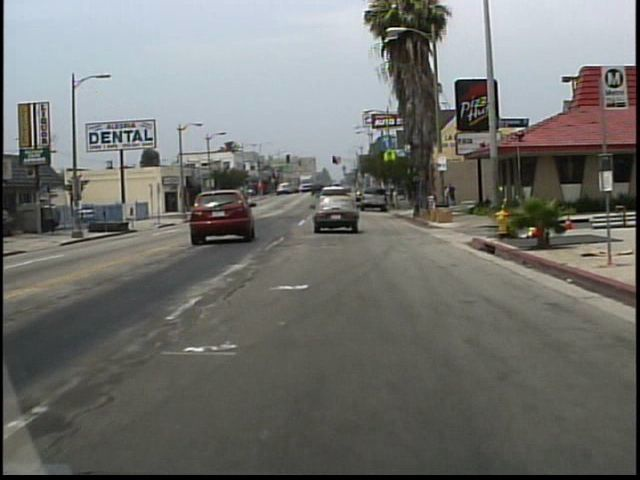person: (449, 183, 457, 208), (443, 185, 451, 209)
